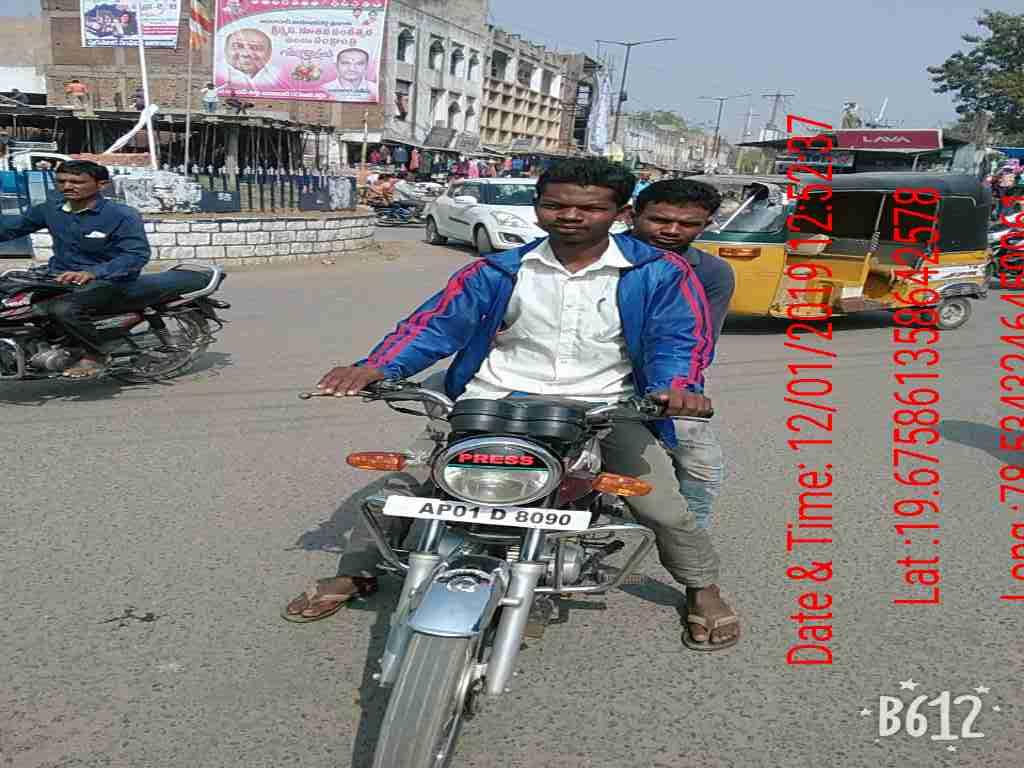plate: (378, 491, 596, 542)
